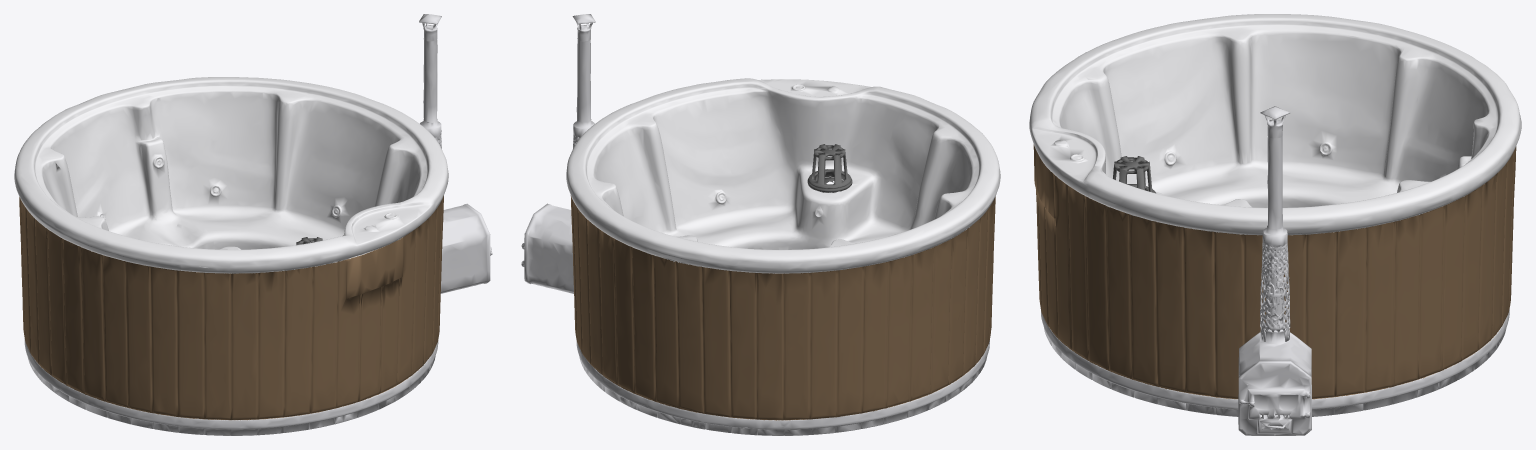
The model's file is balia_z_piecem_1.glb.
3 views of the same model, side by side, from view 1: azimuth 30°, elevation 25°; view 2: azimuth 150°, elevation 25°; view 3: azimuth 270°, elevation 25° (orthographic). The views are drawn at different scales.
Parts seen in each view (by area): view 1: niecka, elewacja, obejma dolna, piec; view 2: niecka, elewacja, obejma dolna, piec, filtr; view 3: niecka, elewacja, piec, obejma dolna, filtr.
Part boxes in pixels (left/top/right/bottom): niecka: left=14, top=77, right=448, bottom=273; elewacja: left=19, top=196, right=443, bottom=420; obejma dolna: left=24, top=339, right=438, bottom=435; piec: left=419, top=14, right=492, bottom=293; niecka: left=566, top=78, right=1000, bottom=273; elewacja: left=570, top=195, right=995, bottom=420; obejma dolna: left=576, top=340, right=989, bottom=435; piec: left=521, top=14, right=595, bottom=293; filtr: left=807, top=144, right=852, bottom=192; niecka: left=1029, top=14, right=1521, bottom=235; elewacja: left=1033, top=144, right=1516, bottom=399; piec: left=1238, top=106, right=1311, bottom=435; obejma dolna: left=1041, top=309, right=1509, bottom=416; filtr: left=1113, top=156, right=1155, bottom=193.
Bounding box in the file's own units: 1.16 × 0.724 × 1.
